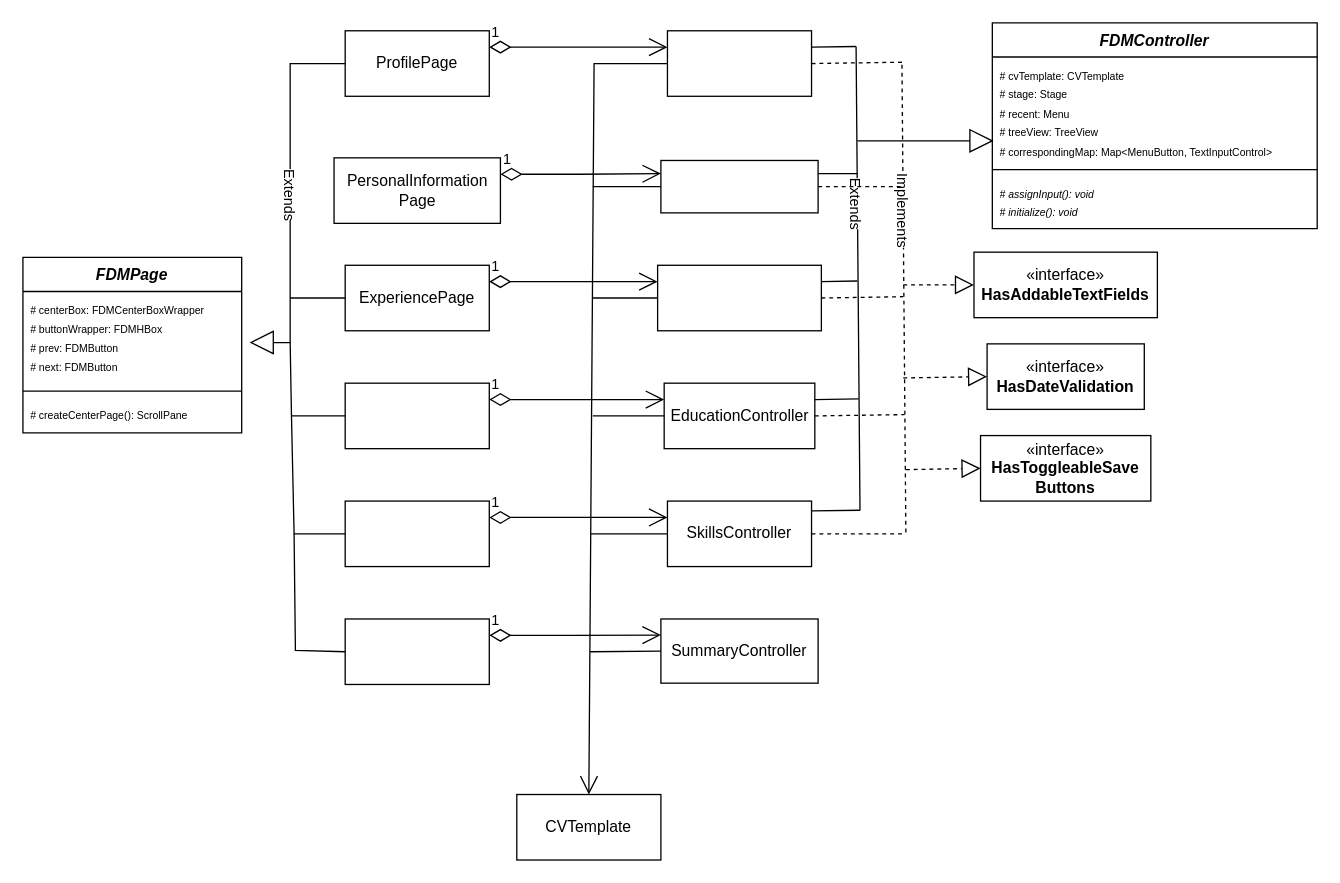
Image size: 1340x883. Some labels were removed from this diagram. The centre of each missing label's shape, as x and y in pixels:
"EducationPage" goes at point 416,415.
"ExperienceController" goes at point 738,297.
"PersonalInformation Controller" goes at point 739,186.
"ProfileController" goes at point 739,62.
"SkillsPage" goes at point 416,533.
"SummaryPage" goes at point 416,651.
